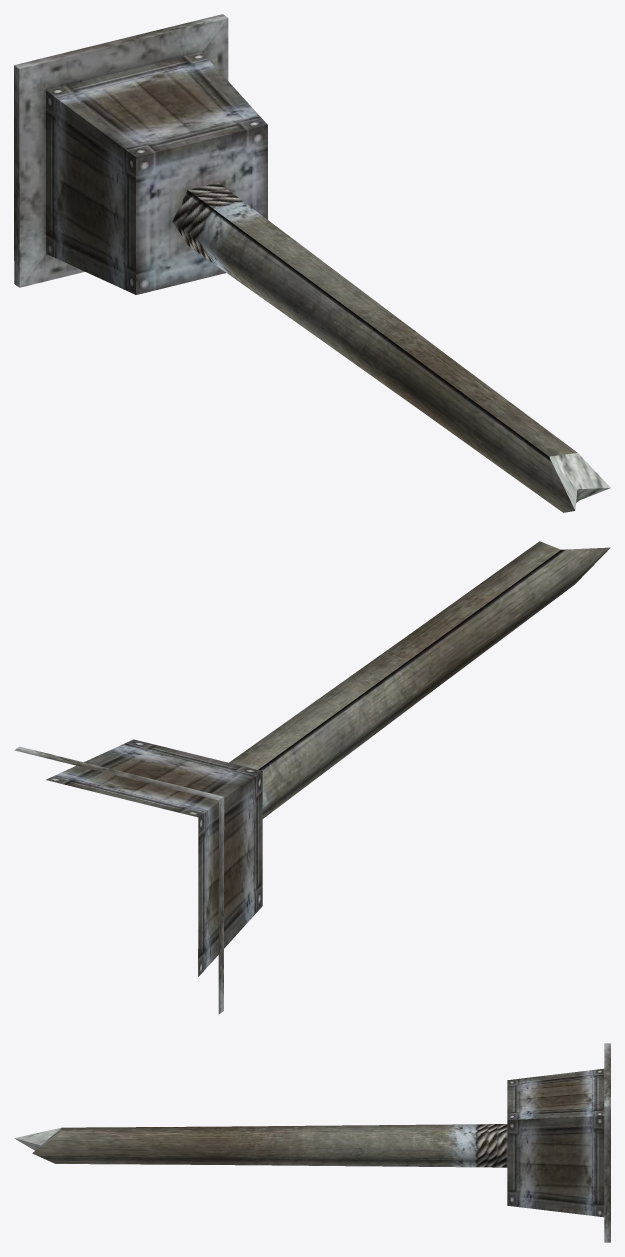
The picture shows the model from 3 angles, top to bottom: view 1: azimuth 30°, elevation 25°; view 2: azimuth 150°, elevation 25°; view 3: azimuth 270°, elevation 25°; orthographic projection. The views are drawn at different scales.
Parts seen in each view (by area): view 1: model_Object38; view 2: model_Object38; view 3: model_Object38.
Part boxes in pixels (<box>): model_Object38: <box>14,14,610,512</box>; model_Object38: <box>14,541,610,1014</box>; model_Object38: <box>14,1043,610,1242</box>.
Bounding box in the file's own units: 0.9251 × 0.9251 × 3.68.
Materials: 1 (1 with a texture image).
